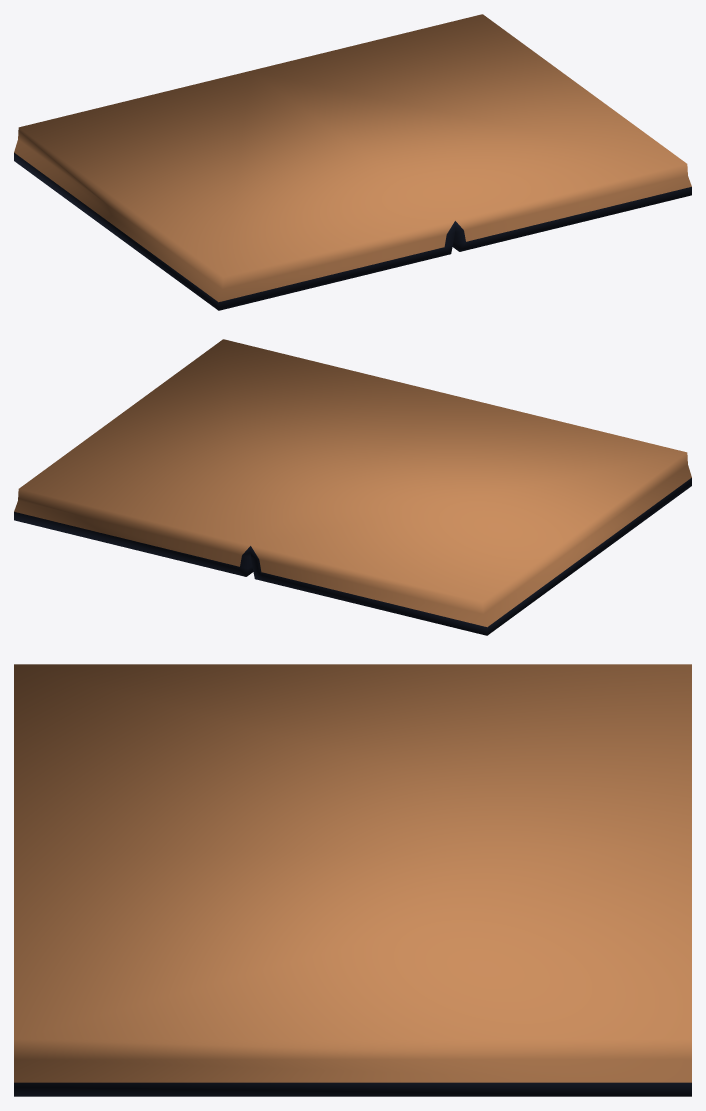
The model's file is BookBlue.fbx.
The picture shows the model from 3 angles, top to bottom: view 1: azimuth 30°, elevation 25°; view 2: azimuth 150°, elevation 25°; view 3: azimuth 270°, elevation 25°; orthographic projection. The views are drawn at different scales.
Parts seen in each view (by area): view 1: Book_Blue_Trow; view 2: Book_Blue_Trow; view 3: Book_Blue_Trow.
Boxes of the visible parts, x1,y1,x2,y2 form: Book_Blue_Trow: (14,14,691,310); Book_Blue_Trow: (14,339,691,635); Book_Blue_Trow: (14,664,691,1096).
Size of the model in its own units: 23.17 by 1.53 by 17.35.
